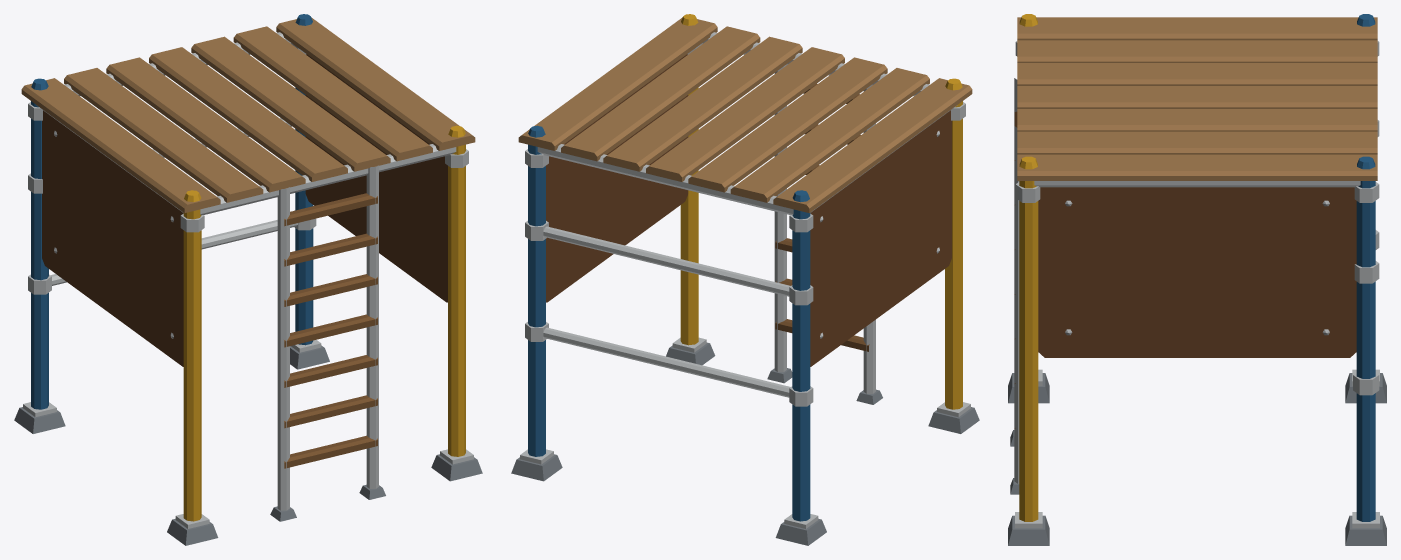
The model's file is climbing-frame-e917d5.glb.
3 views of the same model, side by side, from view 1: azimuth 30°, elevation 25°; view 2: azimuth 150°, elevation 25°; view 3: azimuth 270°, elevation 25° (orthographic). The views are drawn at different scales.
Visible parts, largest first — view 1: frame; view 2: frame; view 3: frame.
Part boxes in pixels (box(x1,y1,x2,y2)): frame: box(14, 14, 482, 545); frame: box(511, 14, 979, 545); frame: box(1008, 14, 1386, 545).
Size of the model in its own units: 2 by 2.2 by 2.
